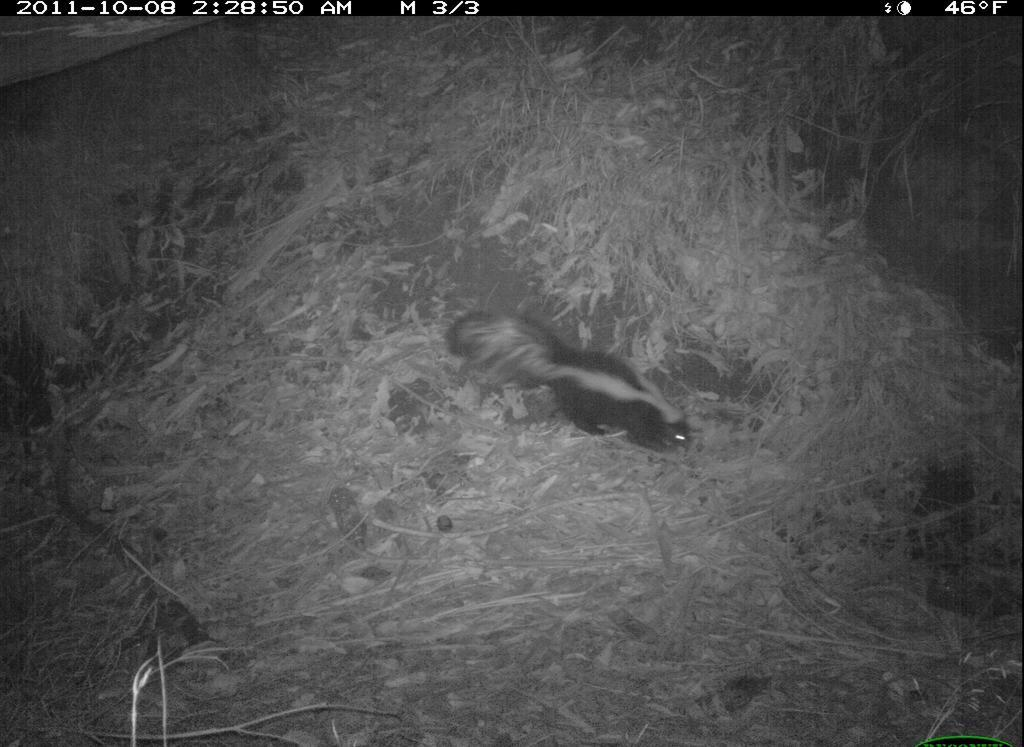skunk: (451, 300, 696, 461)
